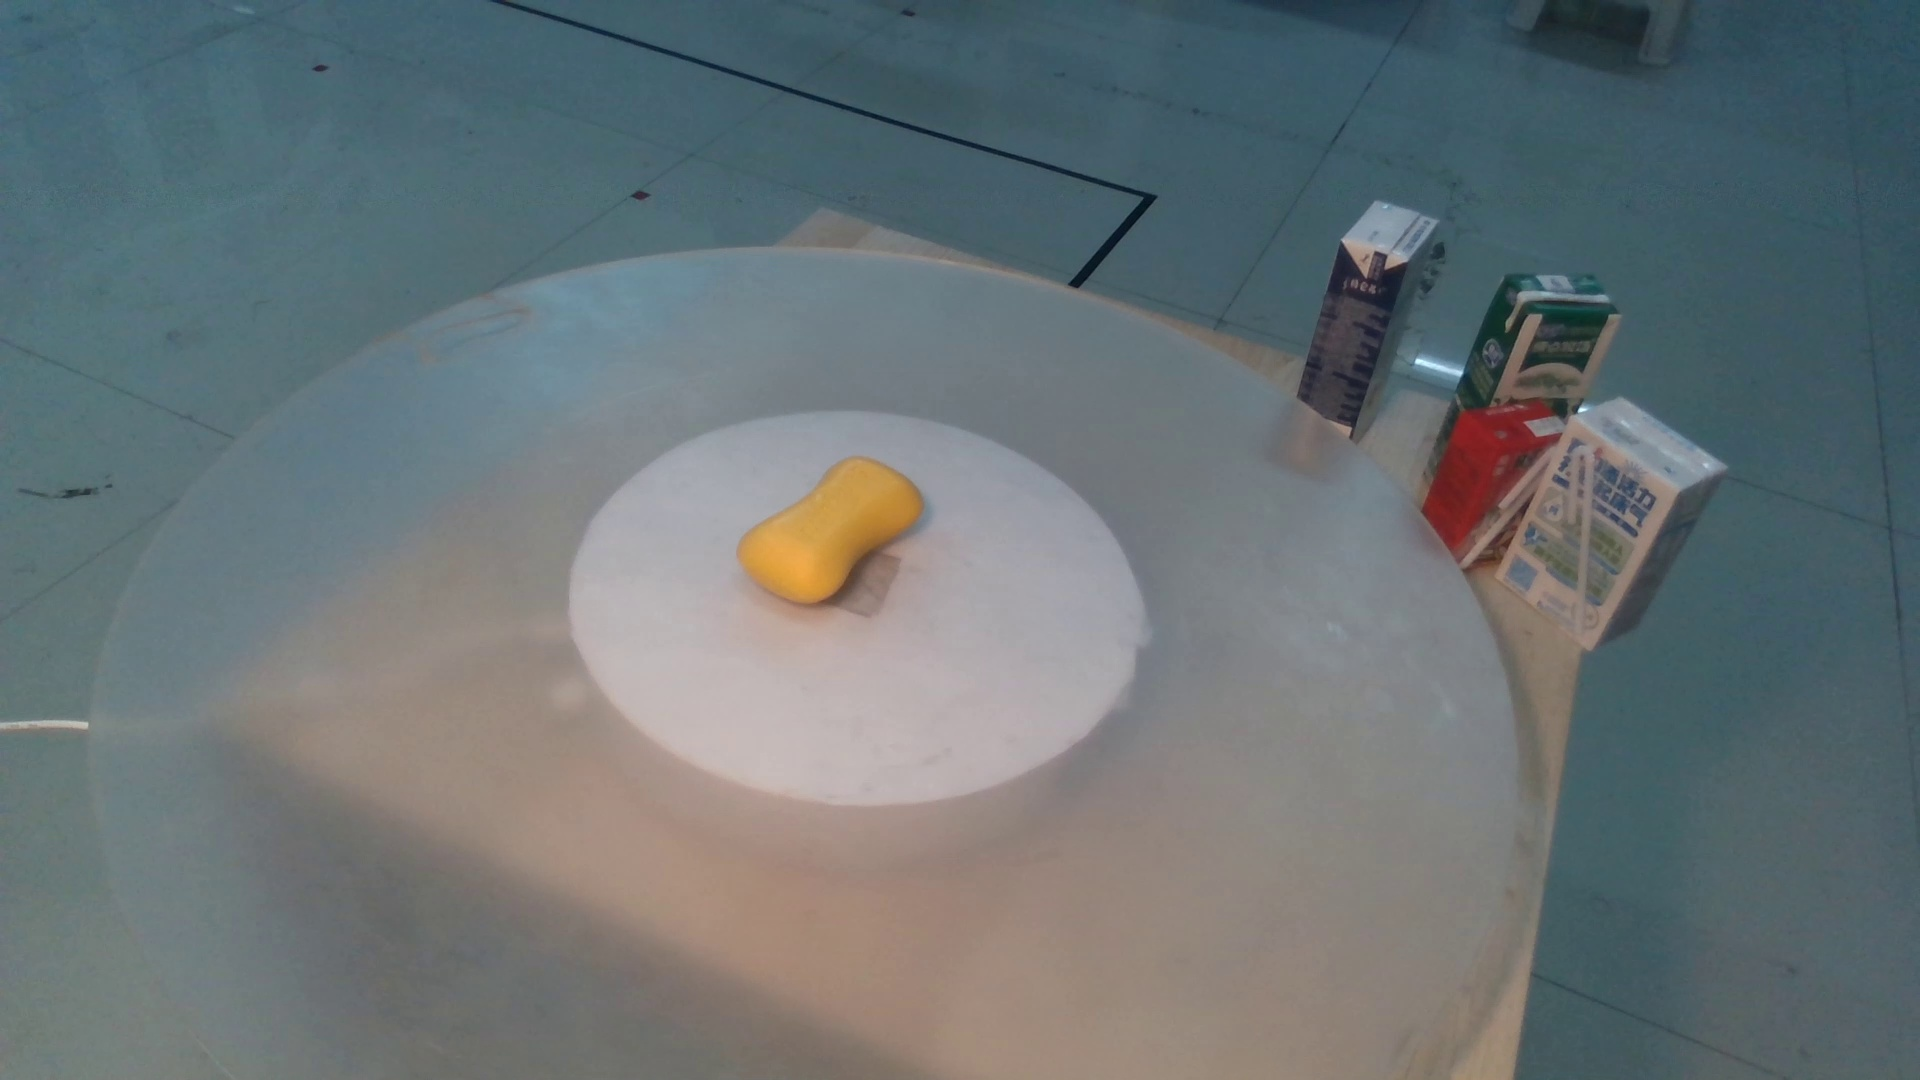CA003_1: (729, 448, 955, 617)
